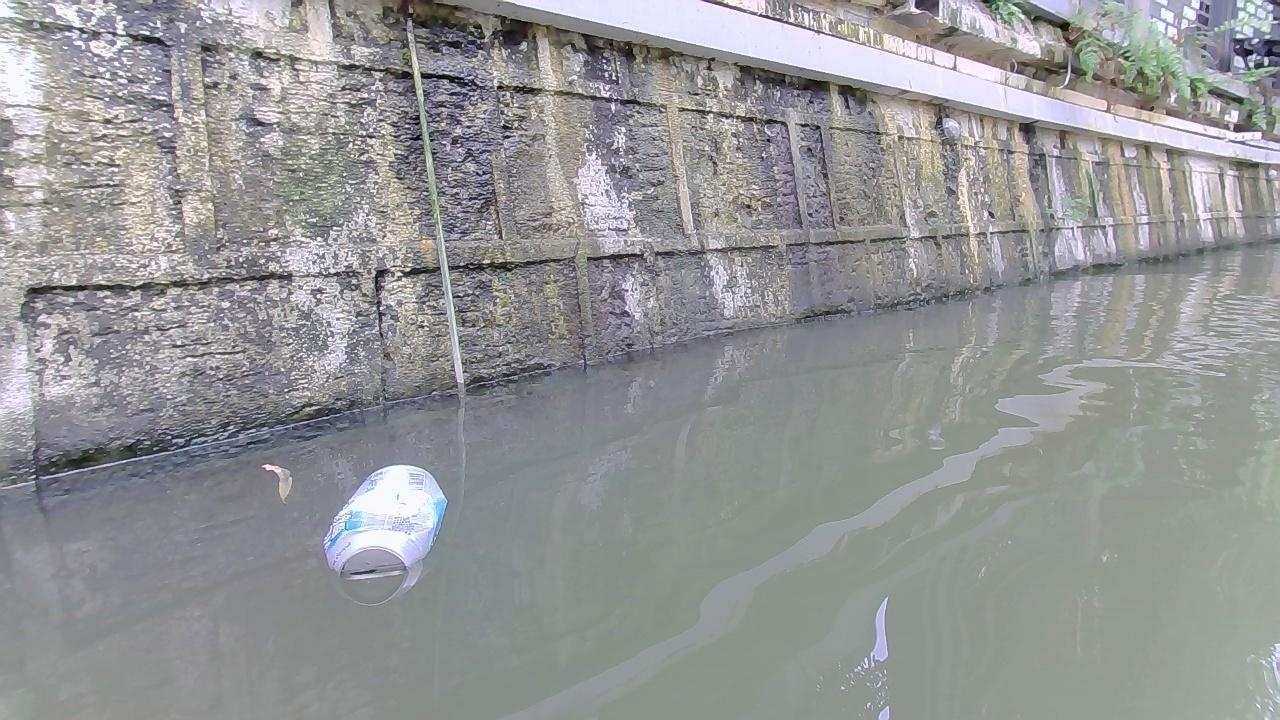Metal: (322, 462, 450, 577)
